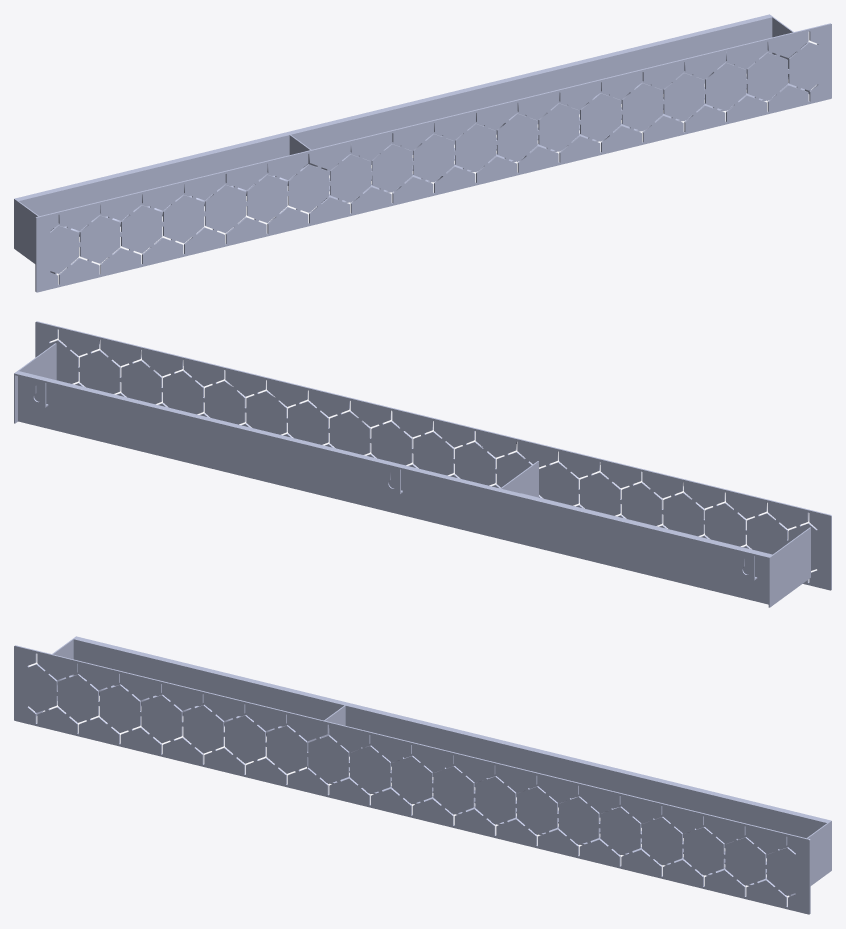
Rendered from bee-double.4a25d70c92.glb.
3 views of the same model, one above another, from view 1: azimuth 30°, elevation 25°; view 2: azimuth 150°, elevation 25°; view 3: azimuth 330°, elevation 25° (orthographic).
Parts seen in each view (by area): view 1: NAUO1; view 2: NAUO1; view 3: NAUO1.
Part boxes in pixels (left/top/right/bottom): NAUO1: left=14, top=14, right=831, bottom=292; NAUO1: left=14, top=321, right=831, bottom=607; NAUO1: left=14, top=636, right=831, bottom=914.
Bounding box in the file's own units: 1 × 0.09 × 0.092.
